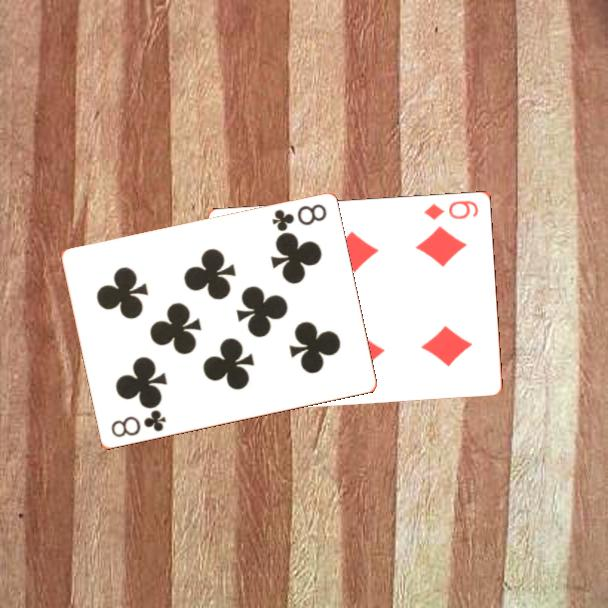c08: (107, 407, 169, 441), (268, 201, 329, 235)
d06: (421, 197, 481, 222)
